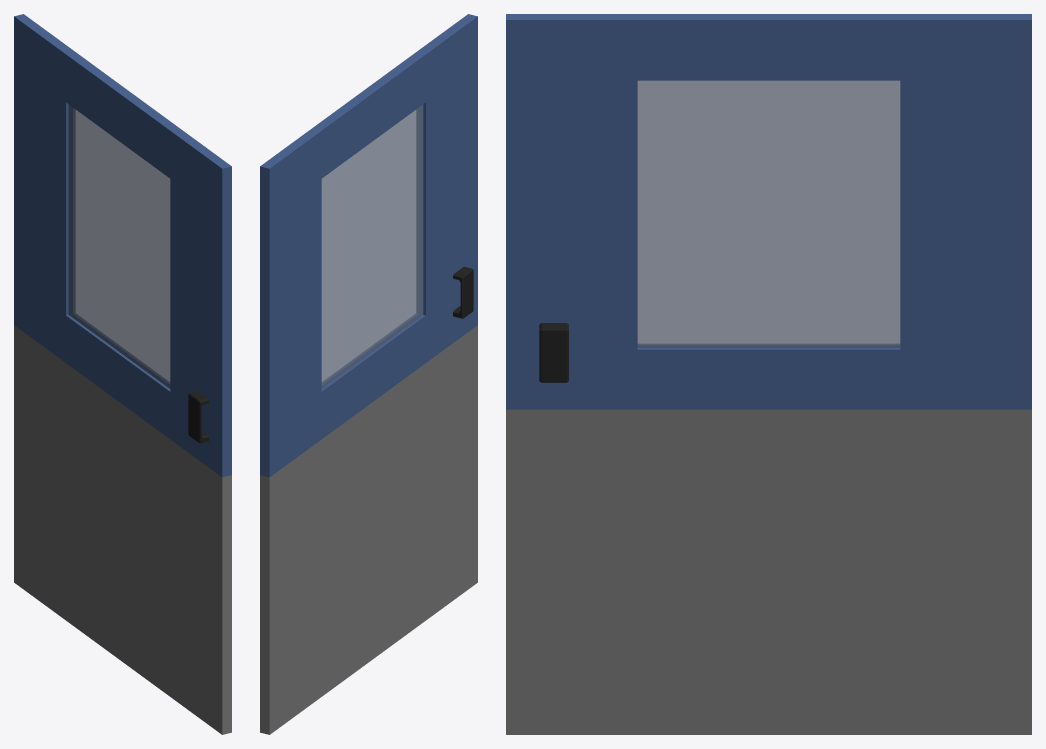
The model's file is Obj_LabDoor 1.fbx.
3 renders of one model, left to right at view 1: azimuth 30°, elevation 25°; view 2: azimuth 150°, elevation 25°; view 3: azimuth 270°, elevation 25°, orthographic. The views are drawn at different scales.
Visible parts, largest first — view 1: Obj_LabDoor; view 2: Obj_LabDoor; view 3: Obj_LabDoor.
Boxes of the visible parts, x1=… form: Obj_LabDoor: x1=14, y1=14, x2=231, y2=734; Obj_LabDoor: x1=260, y1=14, x2=477, y2=734; Obj_LabDoor: x1=506, y1=14, x2=1031, y2=734.
Bounding box in the file's own units: 0.163 × 3 × 2.
Materials: 2 (1 with a texture image).
